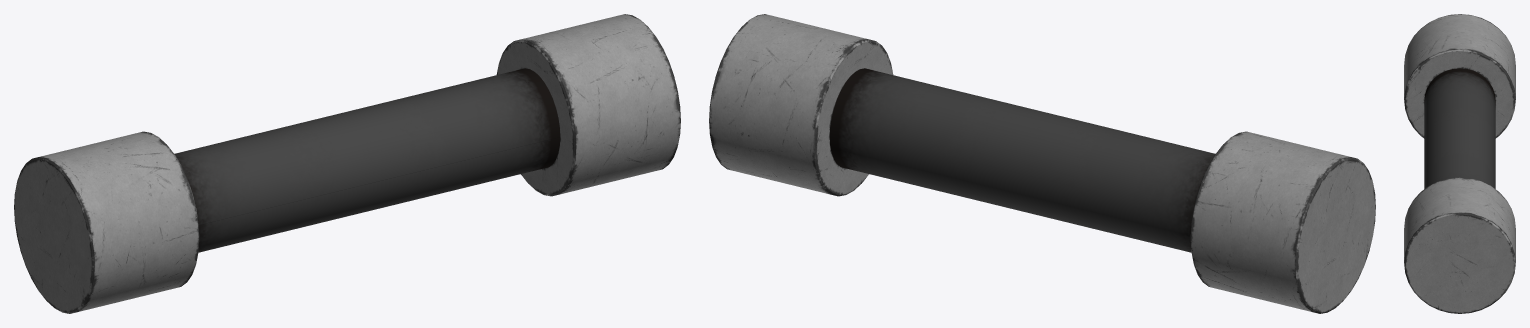
The model's file is Fuse.fbx.
3 renders of one model, left to right at view 1: azimuth 30°, elevation 25°; view 2: azimuth 150°, elevation 25°; view 3: azimuth 270°, elevation 25°, orthographic. The views are drawn at different scales.
Parts seen in each view (by area): view 1: Cylinder; view 2: Cylinder; view 3: Cylinder.
Part boxes in pixels (left/top/right/bottom): Cylinder: left=14, top=14, right=680, bottom=313; Cylinder: left=709, top=14, right=1375, bottom=313; Cylinder: left=1404, top=14, right=1515, bottom=313.
Size of the model in its own units: 1100 by 260 by 260.
Materials: 2 (2 with a texture image).
